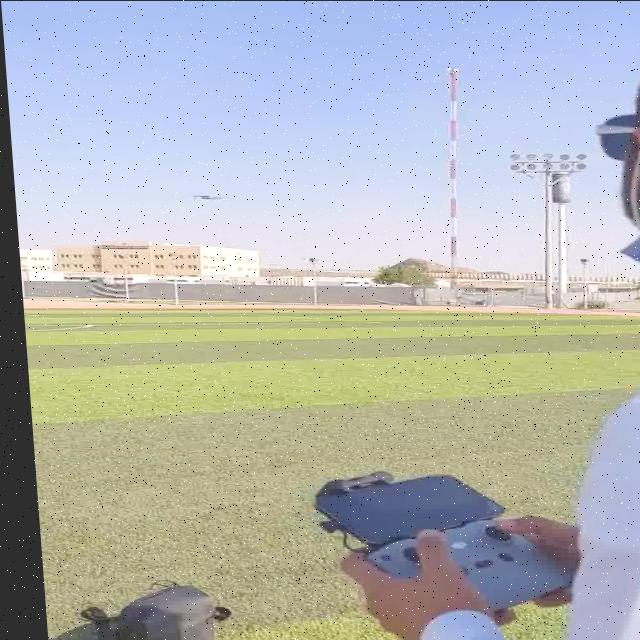drone: (176, 186, 222, 202)
